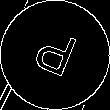P_S: (29, 25, 81, 85)
